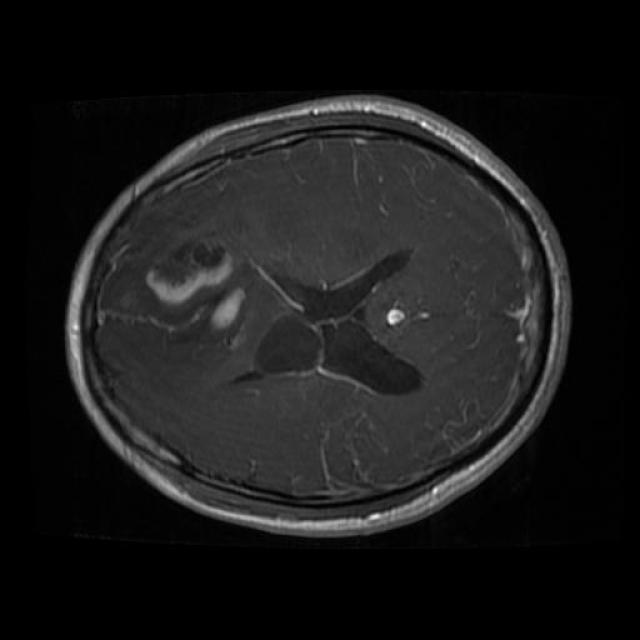Glioma: (101, 241, 251, 345)
